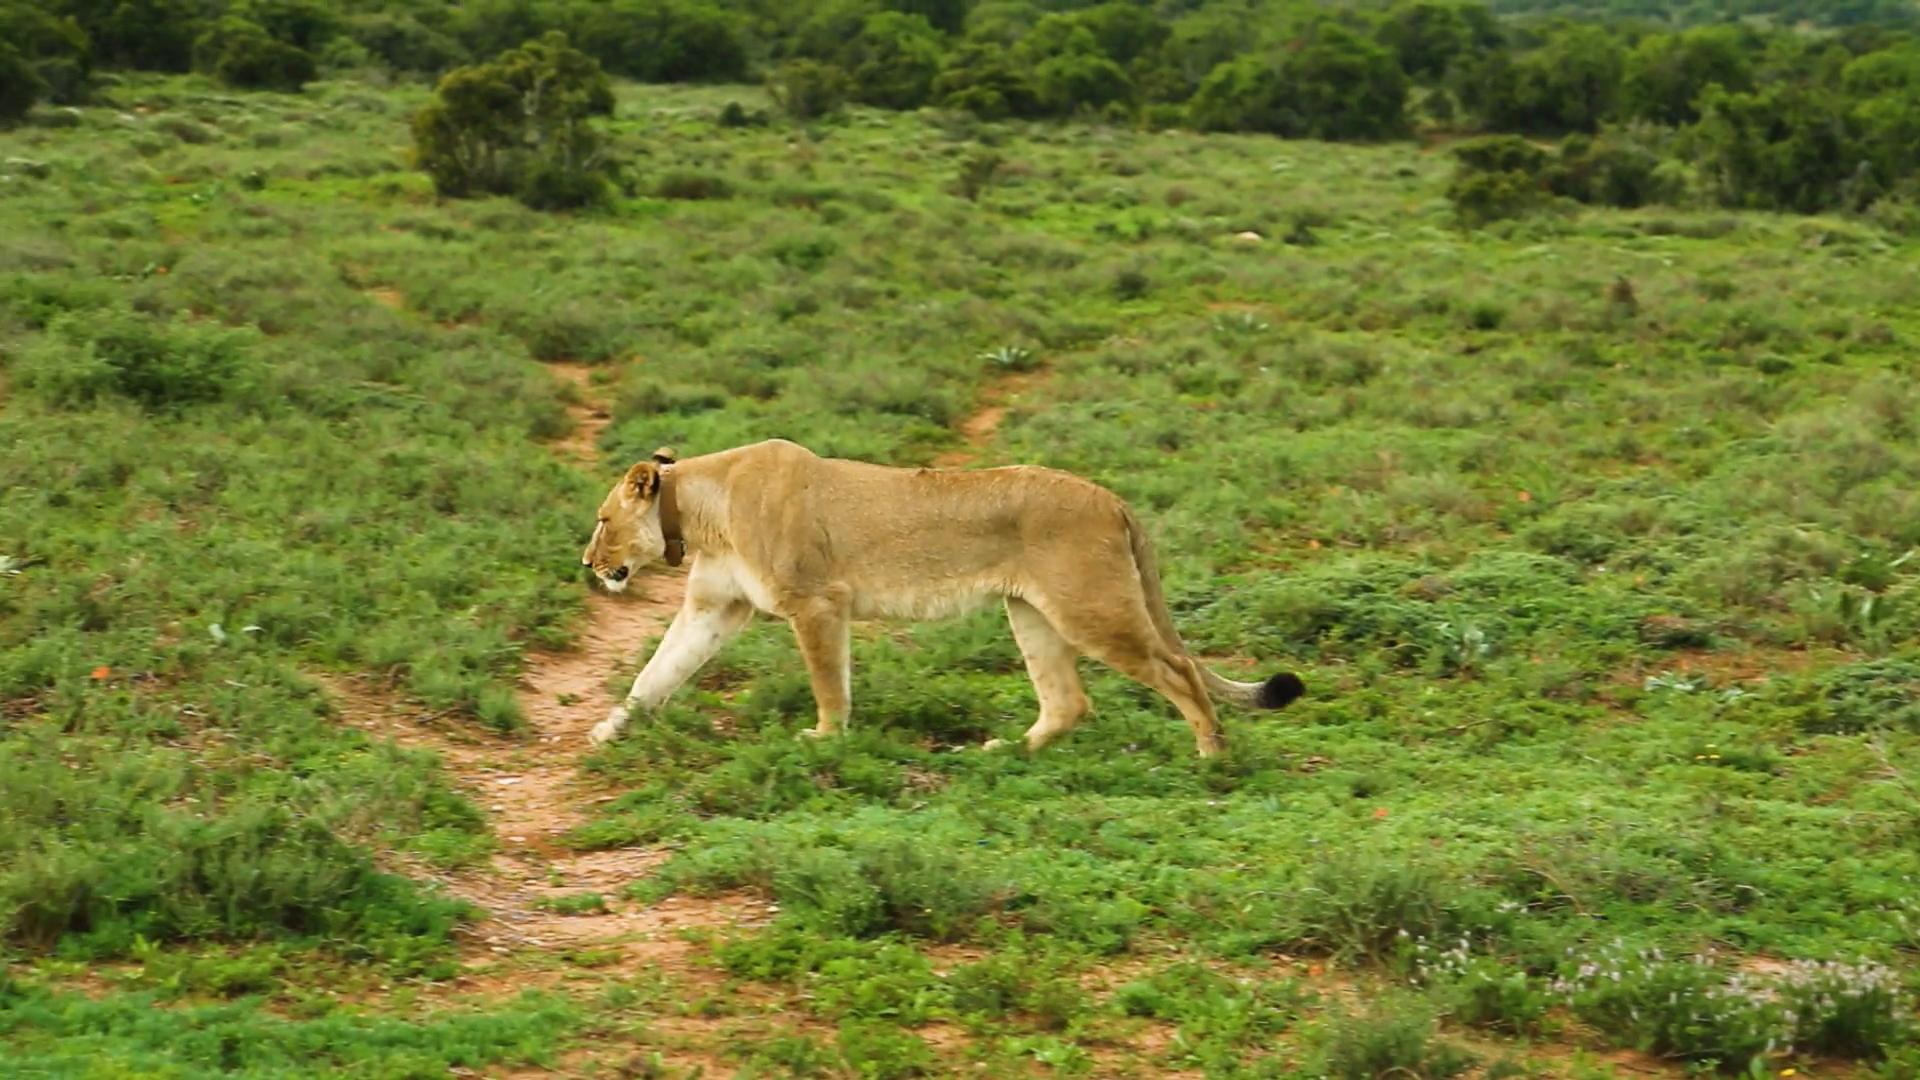lions: (535, 356, 1331, 758)
